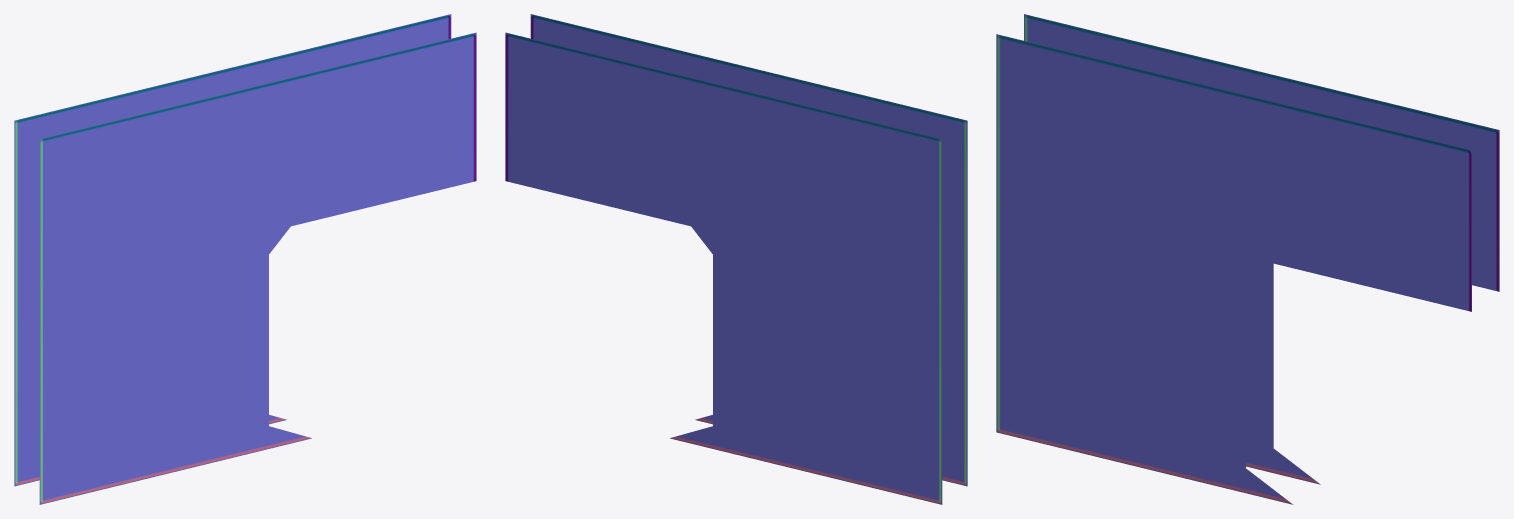
File: Wall_Door_01.FBX
The picture shows the model from 3 angles, left to right: view 1: azimuth 30°, elevation 25°; view 2: azimuth 150°, elevation 25°; view 3: azimuth 330°, elevation 25°; orthographic projection. The views are drawn at different scales.
Parts seen in each view (by area): view 1: Wall_Door_01; view 2: Wall_Door_01; view 3: Wall_Door_01.
Part boxes in pixels (x1,y1,x2,y2): Wall_Door_01: (14,14,476,504); Wall_Door_01: (505,14,967,504); Wall_Door_01: (996,14,1499,504).
Bounding box in the file's own units: 10 × 8 × 1.
Materials: 1 (1 with a texture image).
